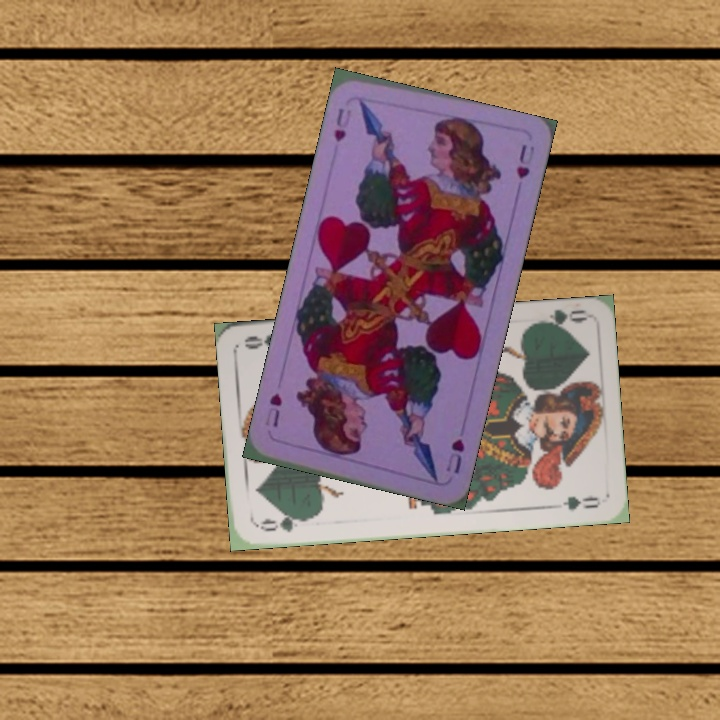GO: (530, 305, 589, 332), (253, 511, 312, 535)
HU: (441, 434, 467, 476), (330, 104, 349, 146)
